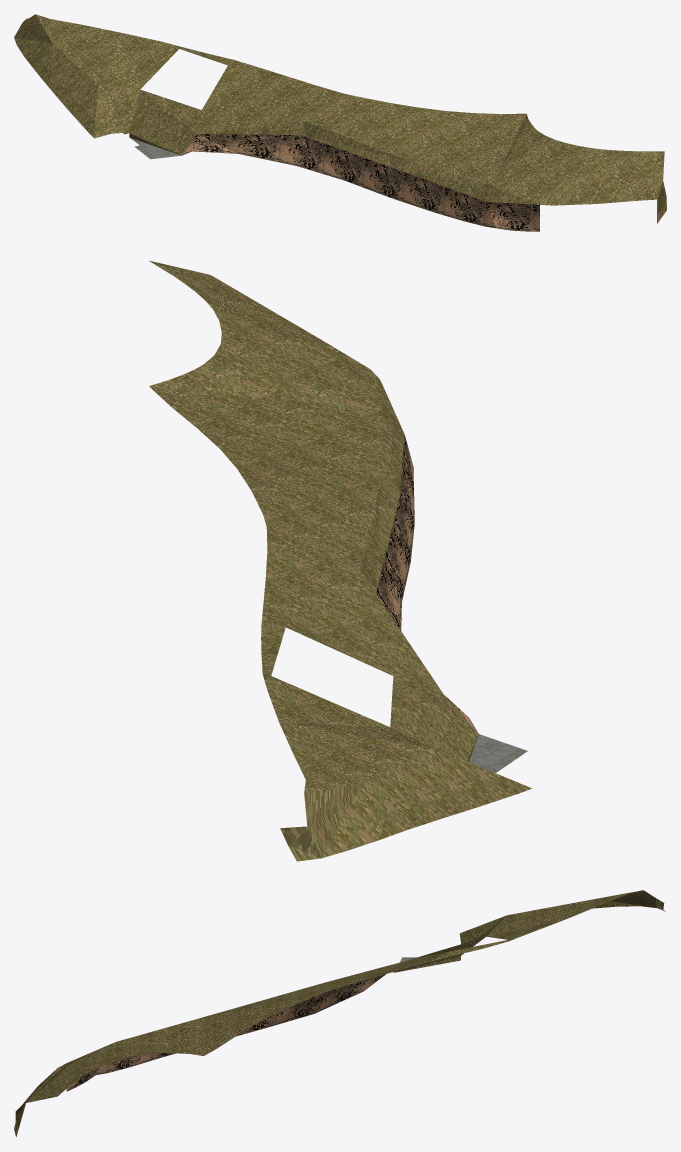
Rendered from lodtcehollyhil10.obj.
3 views of the same model, one above another, from view 1: azimuth 30°, elevation 25°; view 2: azimuth 150°, elevation 25°; view 3: azimuth 270°, elevation 25° (orthographic). The views are drawn at different scales.
Visible parts, largest first — view 1: LODTCEhollyhil10; view 2: LODTCEhollyhil10; view 3: LODTCEhollyhil10.
Boxes of the visible parts, bbox=[...] form: LODTCEhollyhil10: bbox=[14, 14, 666, 231]; LODTCEhollyhil10: bbox=[149, 260, 532, 861]; LODTCEhollyhil10: bbox=[14, 890, 665, 1136].
Bounding box in the file's own units: 206 × 39.41 × 287.
3 materials, 3 textured.
